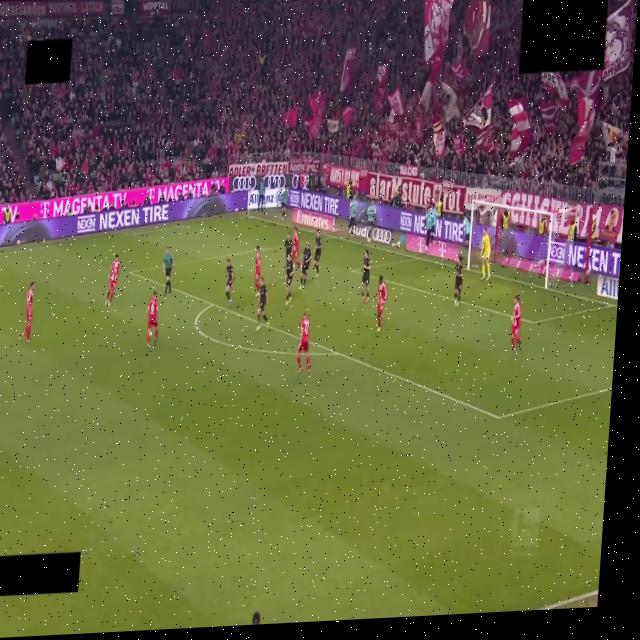ball: (149, 331, 152, 337)
player: (297, 311, 310, 373), (105, 255, 120, 306), (22, 282, 34, 342), (256, 277, 269, 330), (146, 291, 158, 346), (511, 295, 521, 352), (376, 275, 386, 332), (300, 241, 311, 289), (360, 250, 370, 302), (481, 228, 491, 280), (454, 255, 463, 306), (225, 259, 234, 305), (286, 255, 294, 304), (314, 230, 322, 278), (254, 247, 260, 296), (293, 227, 300, 267), (284, 233, 293, 261)
referee: (163, 246, 174, 294)
